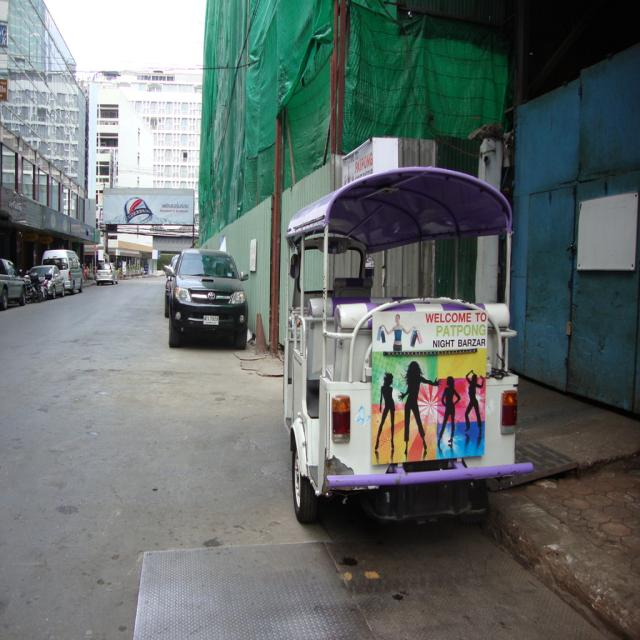car: (165, 247, 249, 348), (94, 260, 117, 284)
